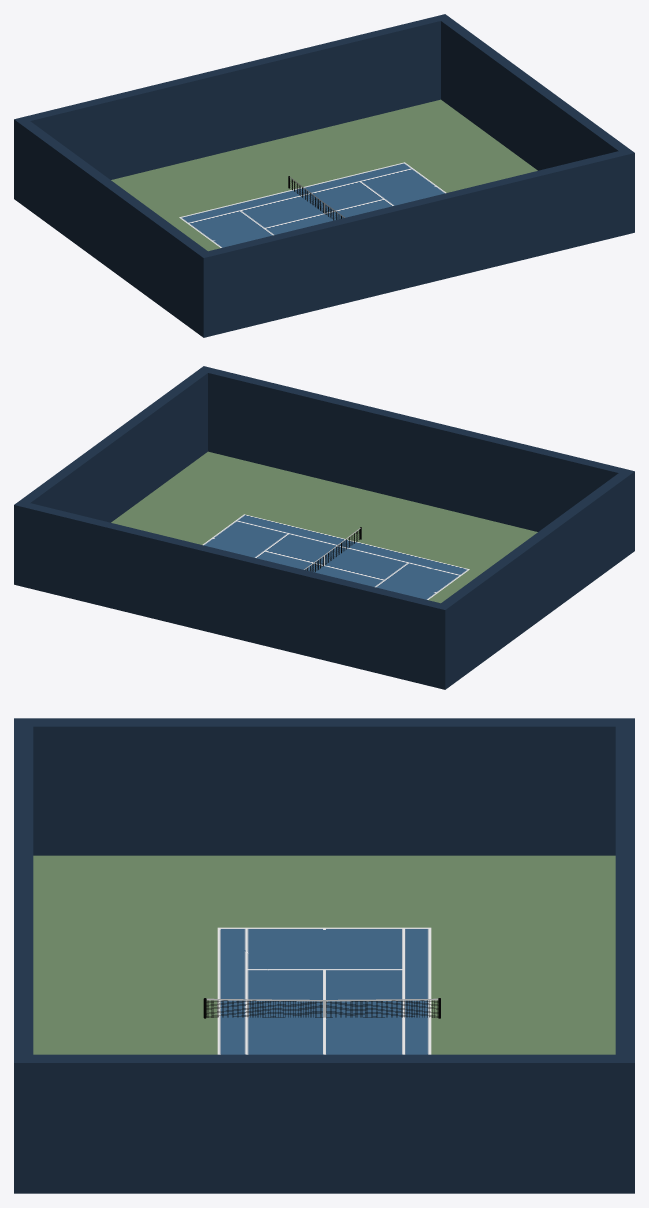
The model's file is court.obj.
3 renders of one model, top to bottom at view 1: azimuth 30°, elevation 25°; view 2: azimuth 150°, elevation 25°; view 3: azimuth 270°, elevation 25°, orthographic. The views are drawn at different scales.
Parts seen in each view (by area): view 1: Plane.004_Plane.003, Plane.001, Plane; view 2: Plane.004_Plane.003, Plane.001, Plane; view 3: Plane.004_Plane.003, Plane.001, Plane, Plane.003_Plane.004.
Part boxes in pixels (x1,y1,x2,y2): Plane.004_Plane.003: [14, 14, 634, 337]; Plane.001: [111, 99, 537, 251]; Plane: [179, 162, 446, 247]; Plane.004_Plane.003: [14, 366, 634, 689]; Plane.001: [111, 451, 537, 603]; Plane: [202, 514, 469, 599]; Plane.004_Plane.003: [14, 718, 634, 1193]; Plane.001: [33, 855, 615, 1054]; Plane: [217, 927, 431, 1054]; Plane.003_Plane.004: [206, 1000, 437, 1017].
Bounding box in the file's own units: 42 × 7.42 × 32.
6 materials, 6 textured.
